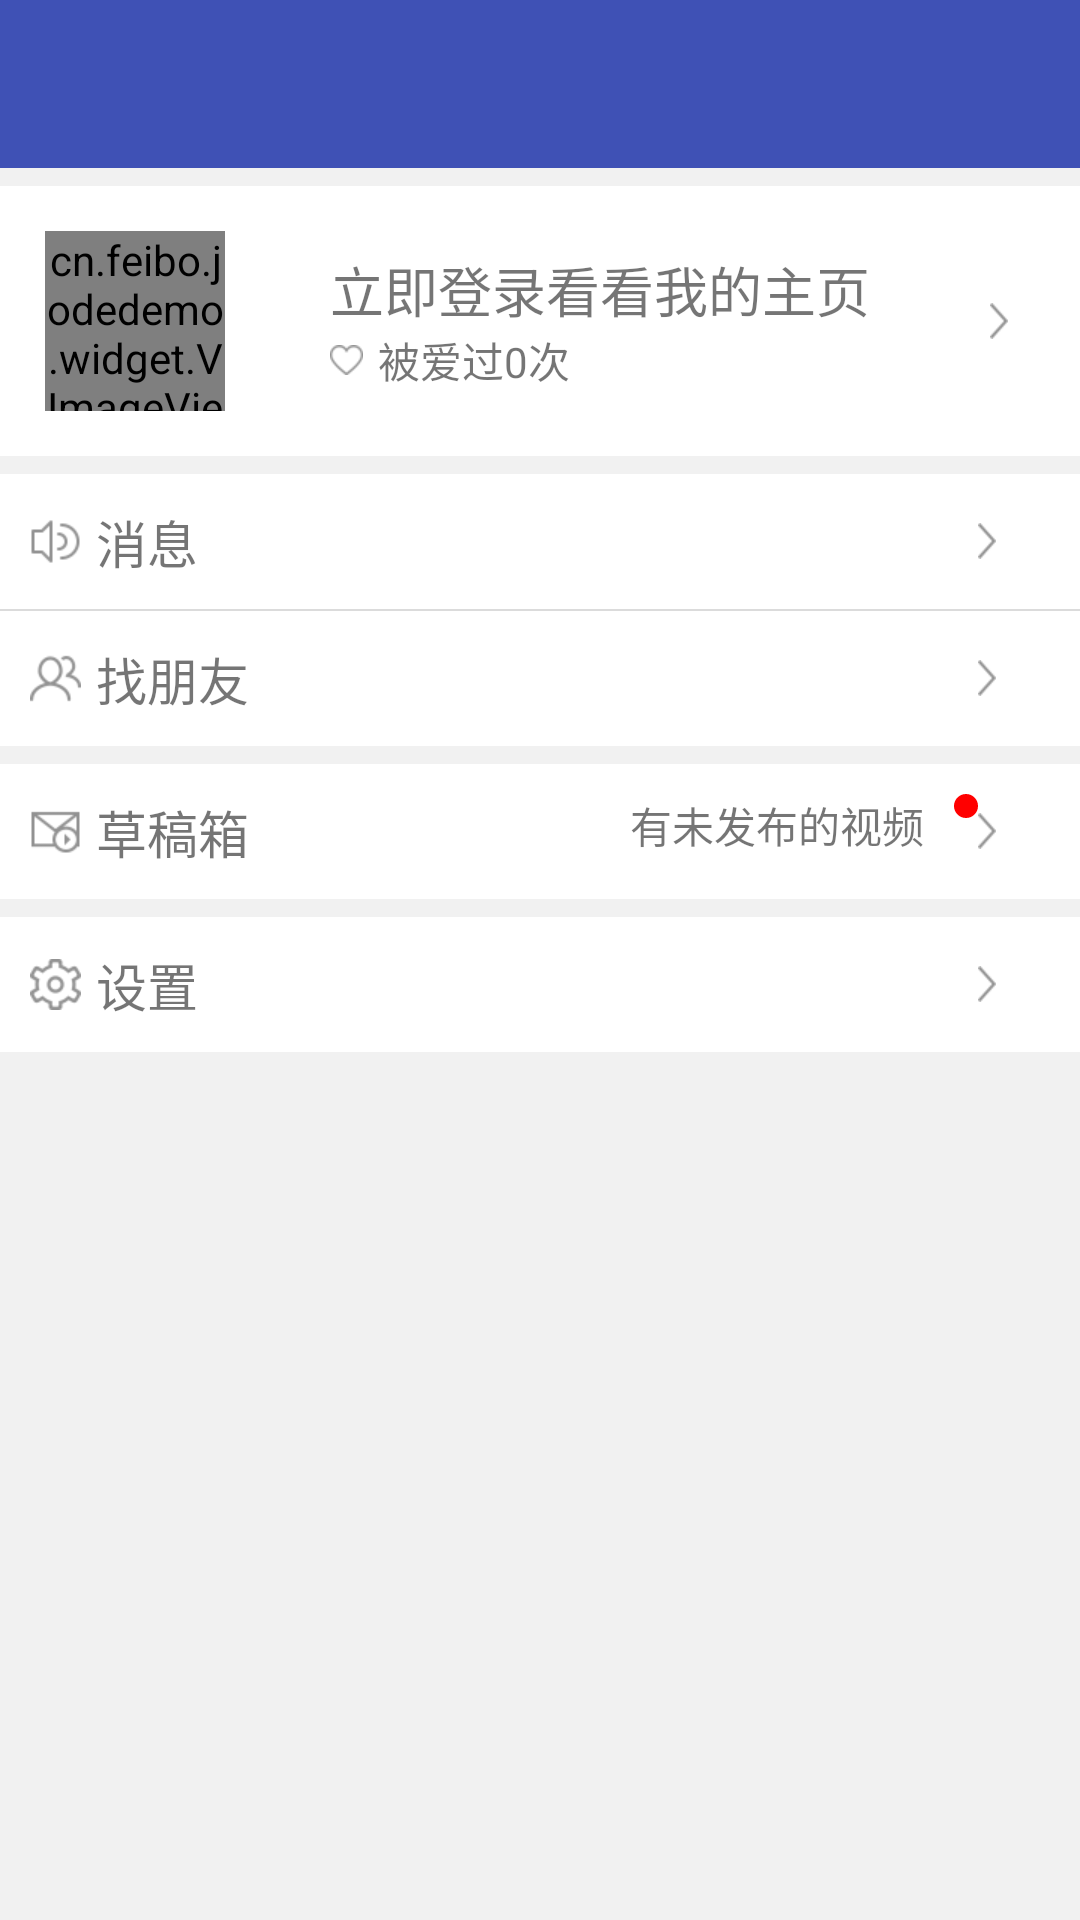

Icons on this 1080 x 1920 Android screen, each with the point to tap as [x,y]:
arrow: [999,321]
